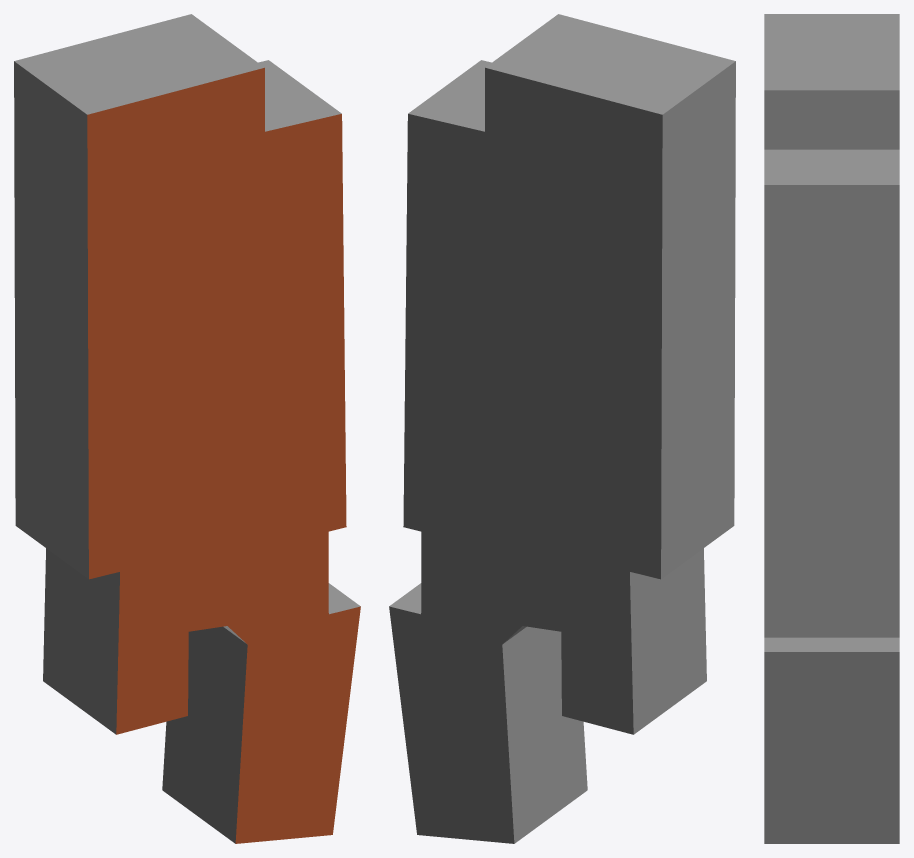
The model's file is construction_0382_assumed_A_Casa_h6m.obj.
3 renders of one model, left to right at view 1: azimuth 30°, elevation 25°; view 2: azimuth 150°, elevation 25°; view 3: azimuth 270°, elevation 25°, orthographic. The views are drawn at different scales.
Visible parts, largest first — view 1: construction_0382_assumed_A_Casa; view 2: construction_0382_assumed_A_Casa; view 3: construction_0382_assumed_A_Casa.
Part boxes in pixels (left/top/right/bottom): construction_0382_assumed_A_Casa: left=14, top=14, right=360, bottom=843; construction_0382_assumed_A_Casa: left=389, top=14, right=735, bottom=843; construction_0382_assumed_A_Casa: left=764, top=14, right=899, bottom=843.
Size of the model in its own units: 12.92 by 35.38 by 6.
